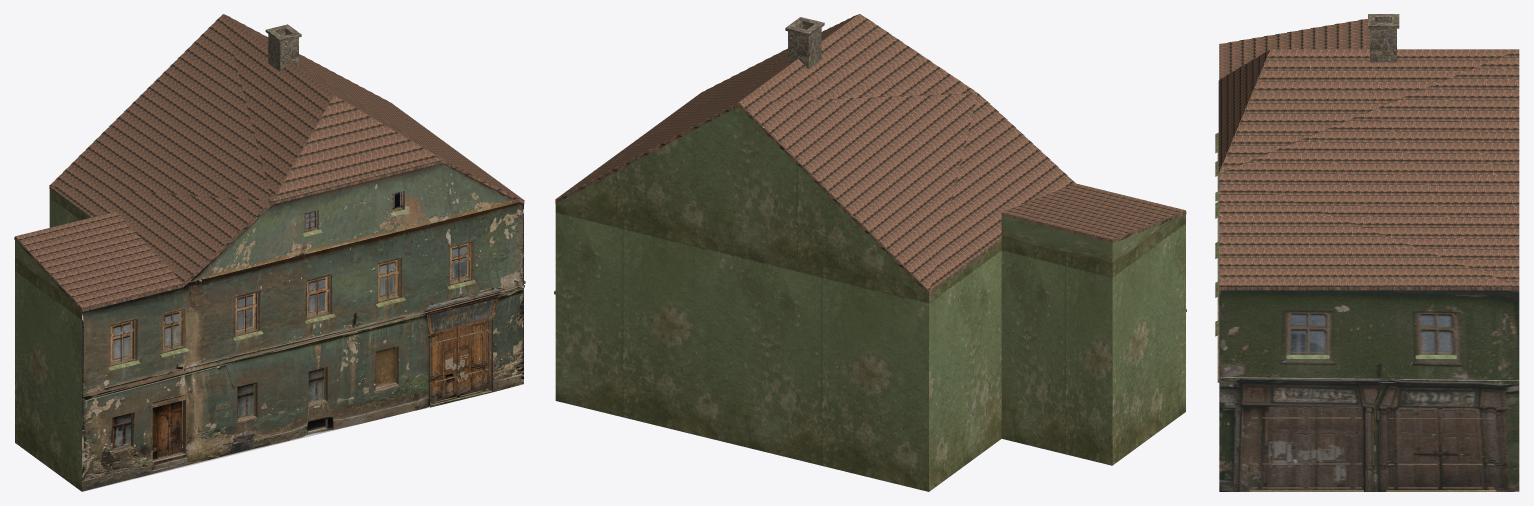
3 renders of one model, left to right at view 1: azimuth 30°, elevation 25°; view 2: azimuth 150°, elevation 25°; view 3: azimuth 270°, elevation 25°, orthographic. The views are drawn at different scales.
Parts seen in each view (by area): view 1: CP40_detail_uv_r15; view 2: CP40_detail_uv_r15; view 3: CP40_detail_uv_r15.
Part boxes in pixels (x1,y1,x2,y2): CP40_detail_uv_r15: (14,14,525,491); CP40_detail_uv_r15: (554,14,1186,491); CP40_detail_uv_r15: (1215,14,1519,491).
Bounding box in the file's own units: 16.22 × 11.82 × 8.56.
8 materials, 8 textured.
